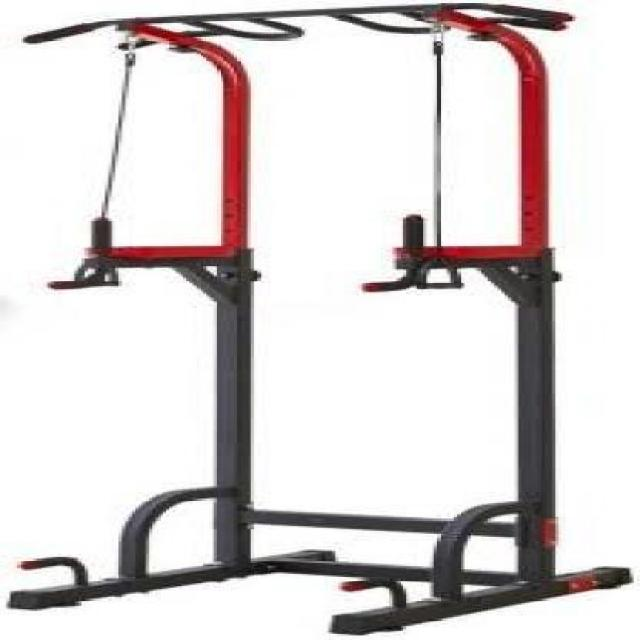chinning dipping: (16, 1, 624, 634)
